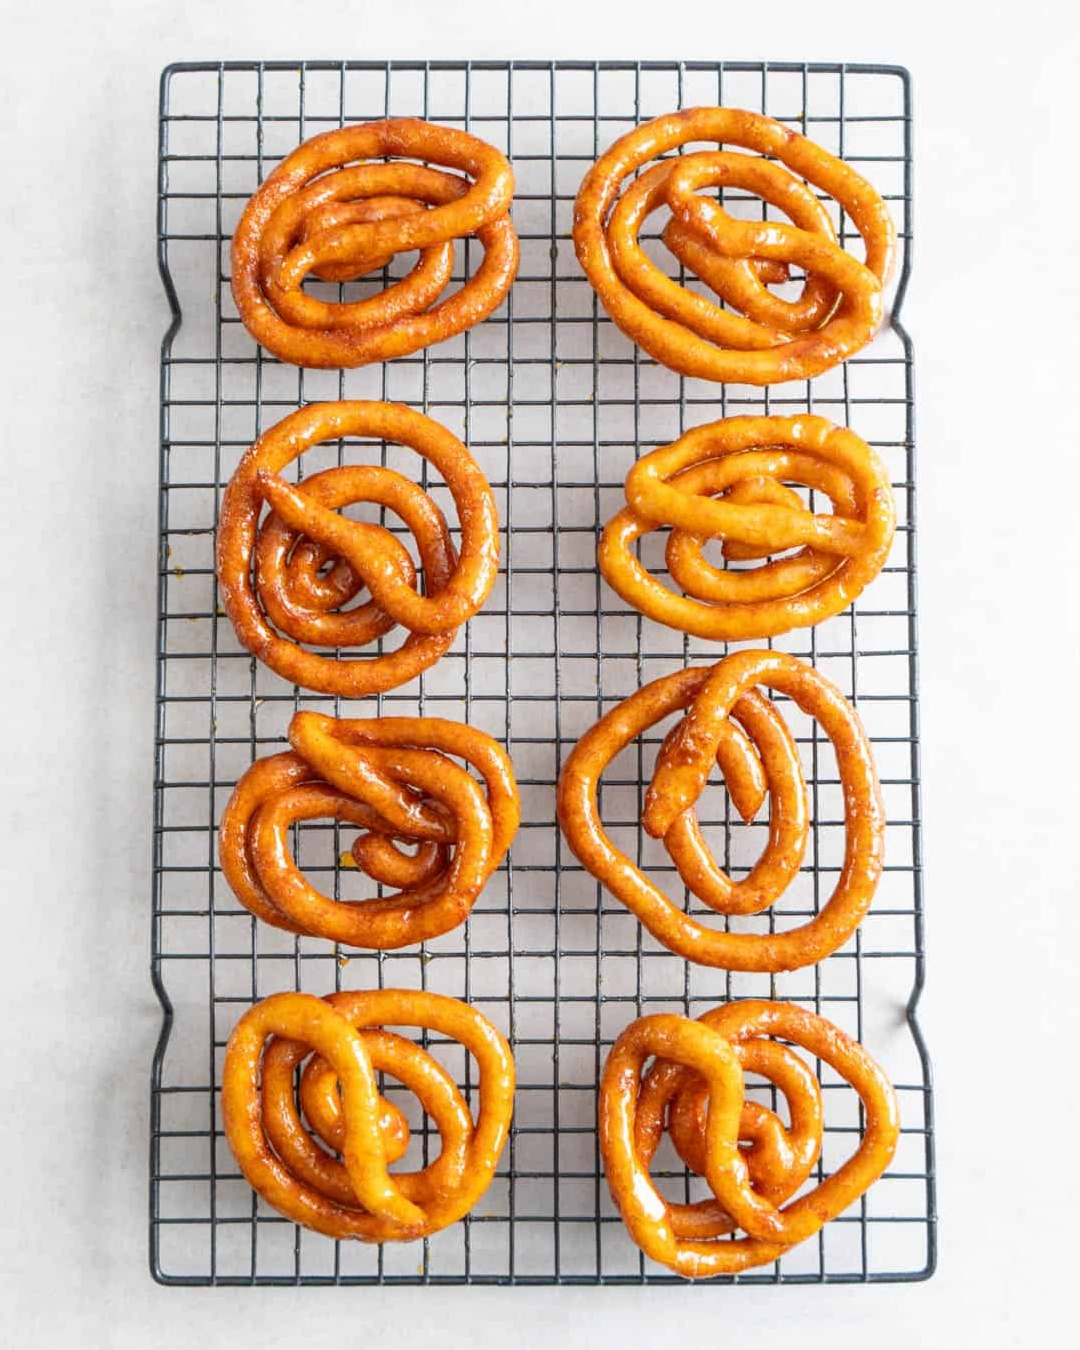pani_walalu: (563, 645, 883, 965), (574, 106, 894, 384), (205, 399, 500, 699), (601, 994, 903, 1275), (218, 985, 517, 1244), (219, 711, 534, 946), (236, 122, 522, 364), (595, 418, 888, 640)
